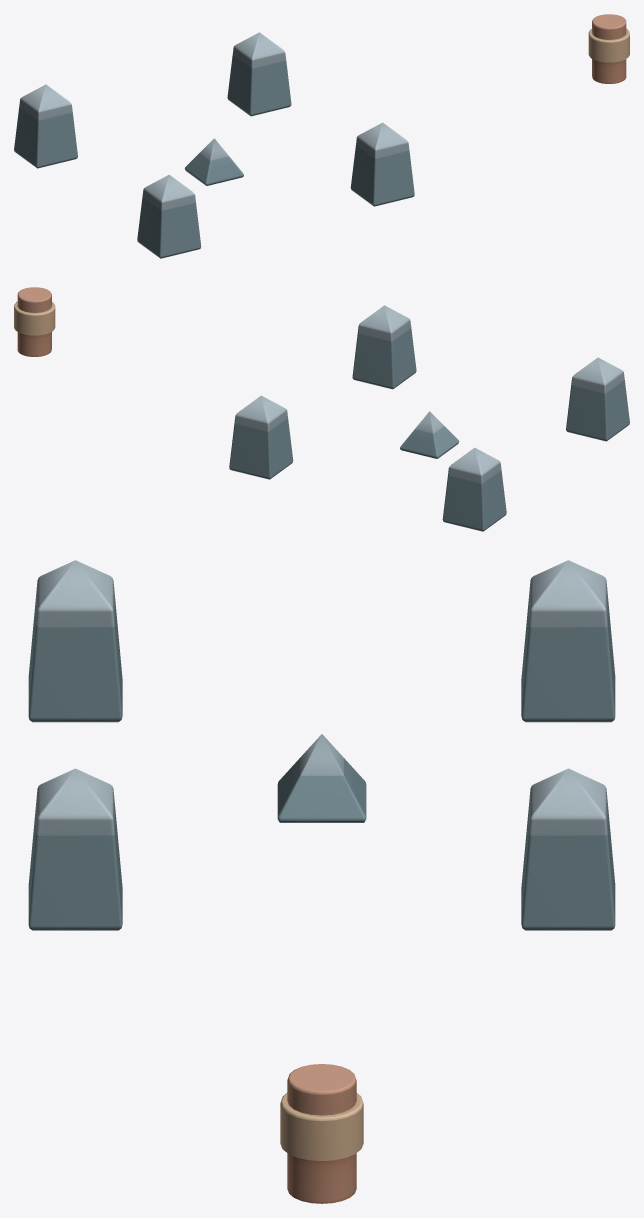
File: Props.fbx
The picture shows the model from 3 angles, top to bottom: view 1: azimuth 30°, elevation 25°; view 2: azimuth 150°, elevation 25°; view 3: azimuth 270°, elevation 25°; orthographic projection. The views are drawn at different scales.
Visible parts, largest first — view 1: 棱锥 (×4), Cylinder-2, 三角锥; view 2: 棱锥 (×4), Cylinder-2, 三角锥; view 3: 棱锥 (×4), Cylinder-2, 三角锥.
Part boxes in pixels (bbox=[...]): 棱锥 (×4): bbox=[14, 32, 414, 258]; Cylinder-2: bbox=[588, 14, 629, 83]; 三角锥: bbox=[184, 138, 243, 185]; 棱锥 (×4): bbox=[229, 305, 629, 531]; Cylinder-2: bbox=[14, 287, 55, 356]; 三角锥: bbox=[400, 411, 459, 458]; 棱锥 (×4): bbox=[28, 560, 615, 930]; Cylinder-2: bbox=[280, 1064, 363, 1203]; 三角锥: bbox=[277, 734, 366, 822].
Bounding box in the file's own units: 50.63 × 6.42 × 23.81.
Materials: 3 (3 with a texture image).
